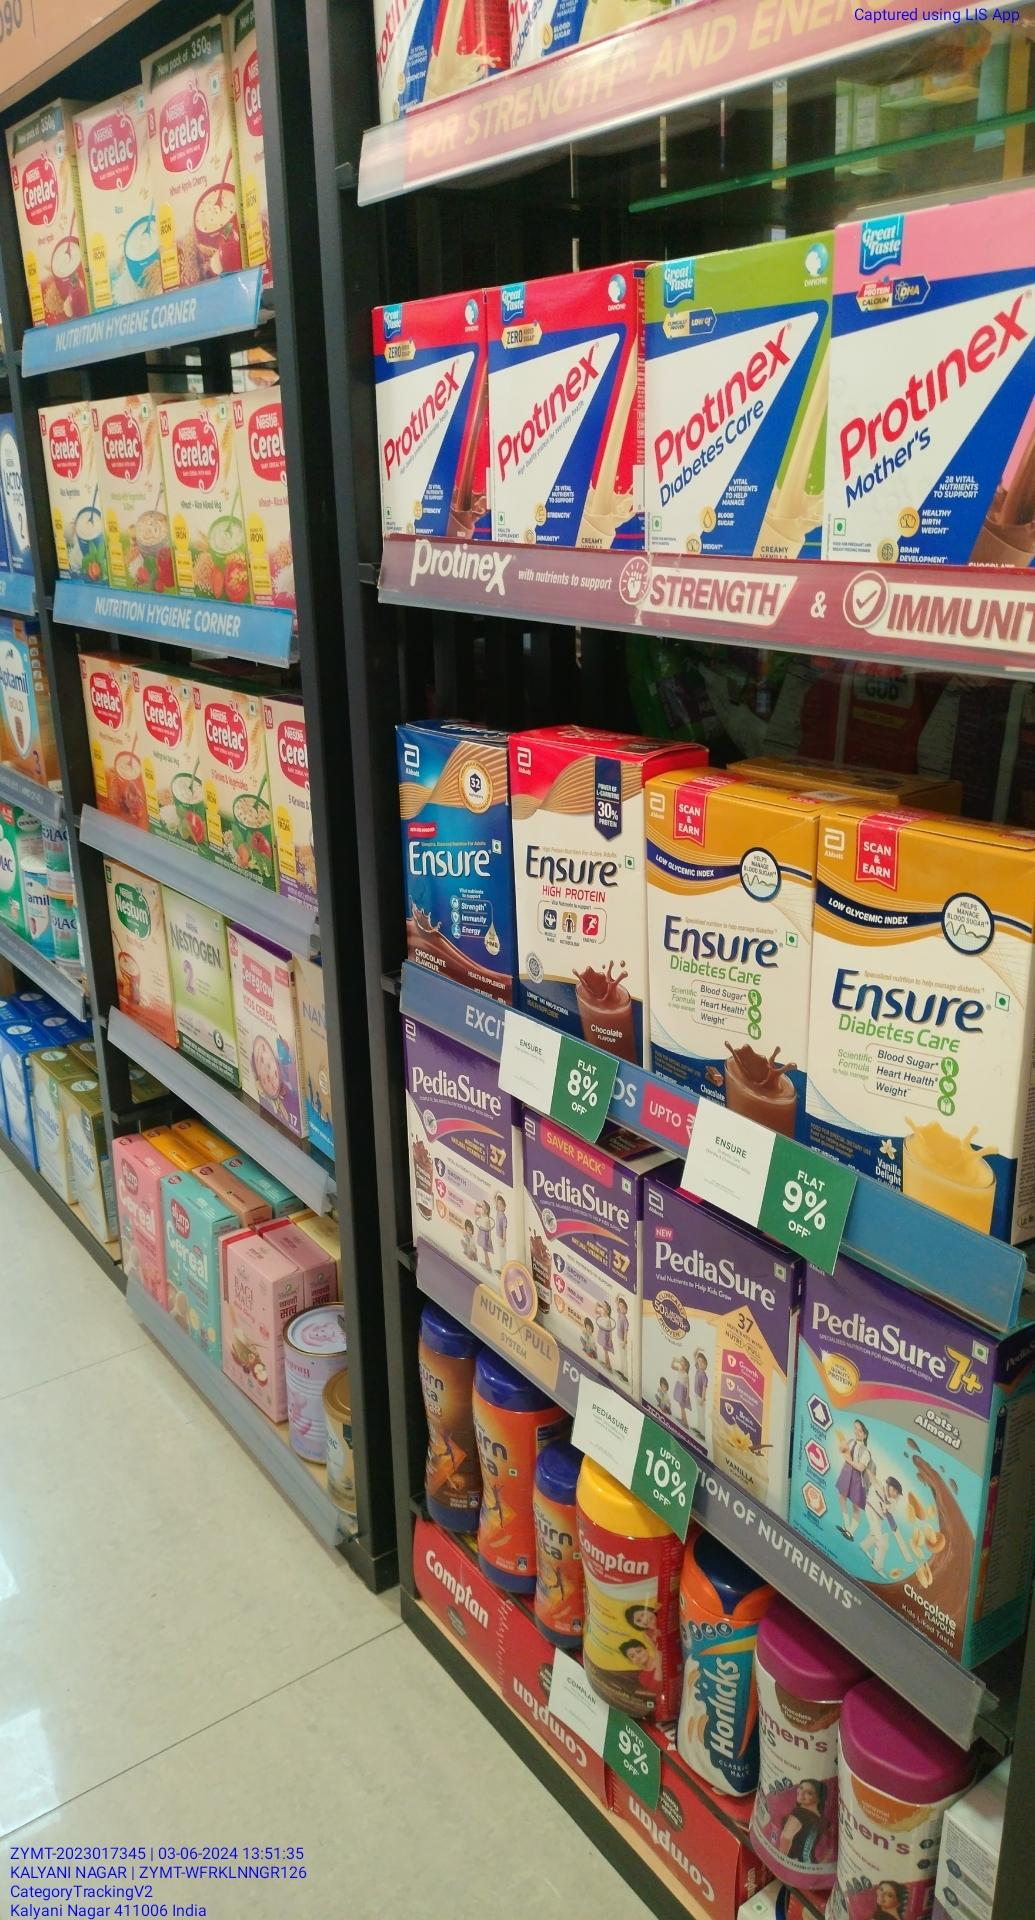BOURN_VITA_200_G_JAR: (539, 1464, 577, 1636)
BOURN_VITA_500_G_JAR: (469, 1356, 535, 1587)
BOURN_VITA_FIVE_STAR_MAGIC_500_G_JAR: (418, 1314, 465, 1529)
HORLICK_CLASSIC_MALT_500_G_JAR: (679, 1540, 753, 1799)
PEDIASURE_7_PLUS_CHOCOLATE_400_G_PACK: (800, 1298, 987, 1617)
PEDIASURE_VANILLA_500_G_PACK: (639, 1210, 788, 1496)
